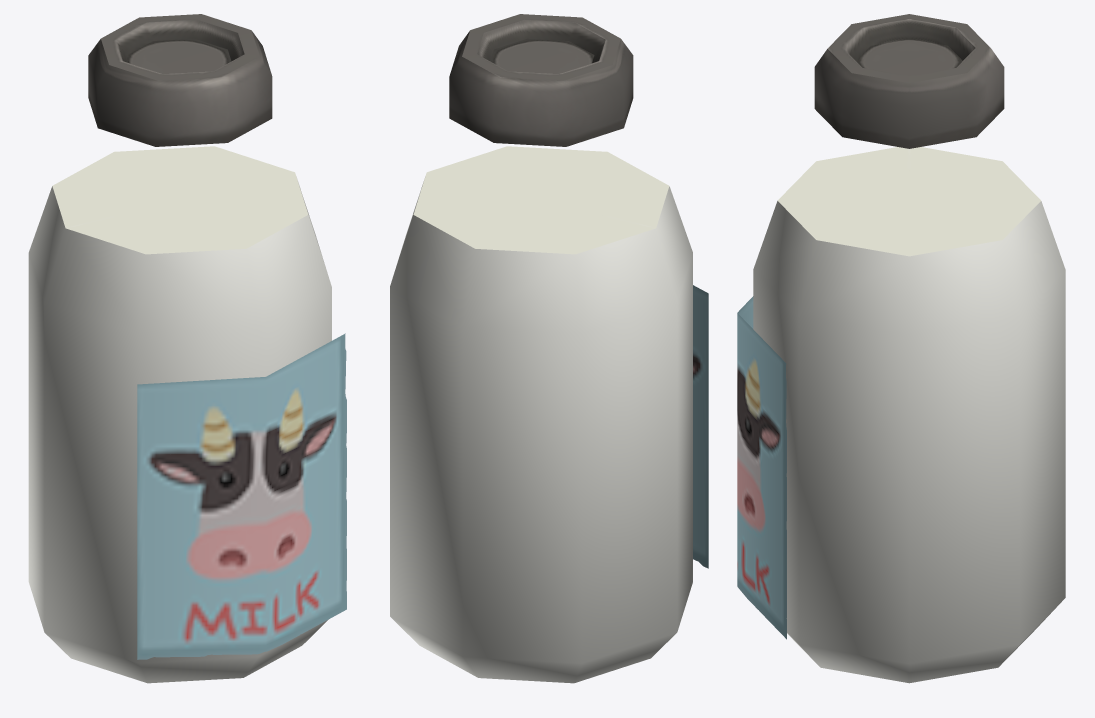
Rendered from milk.FBX.
3 renders of one model, left to right at view 1: azimuth 30°, elevation 25°; view 2: azimuth 150°, elevation 25°; view 3: azimuth 270°, elevation 25°, orthographic.
Parts seen in each view (by area): view 1: milk; view 2: milk; view 3: milk.
Part boxes in pixels (x1,y1,x2,y2): milk: (28,14,346,683); milk: (390,14,708,683); milk: (737,14,1065,683).
Size of the model in its own units: 4.06 by 7.82 by 4.07.
